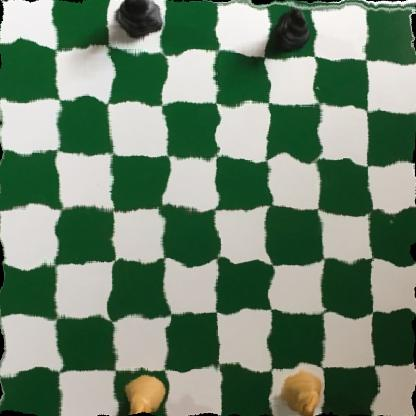black-bishop: (266, 6, 311, 56), (119, 0, 162, 50)
white-bishop: (275, 369, 320, 416), (121, 372, 165, 416)
